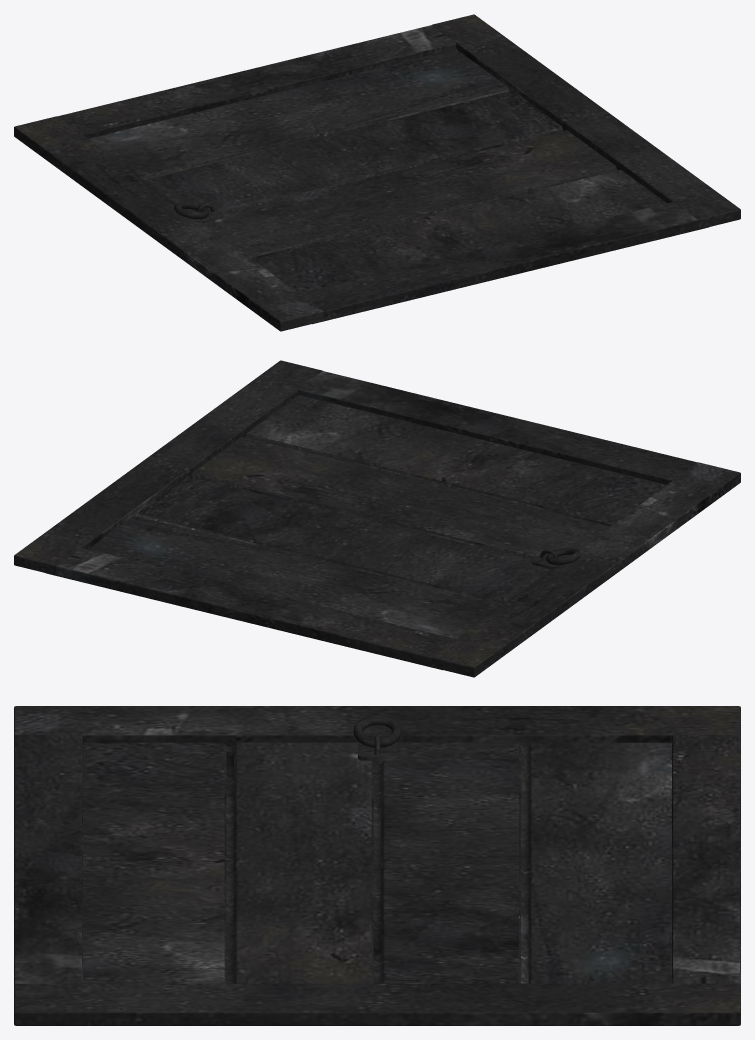
Rendered from SM_Horror_Attic_Trapdoor.fbx.
3 views of the same model, one above another, from view 1: azimuth 30°, elevation 25°; view 2: azimuth 150°, elevation 25°; view 3: azimuth 270°, elevation 25° (orthographic). The views are drawn at different scales.
Parts seen in each view (by area): view 1: SM_Horror_Attic_Trapdoor; view 2: SM_Horror_Attic_Trapdoor; view 3: SM_Horror_Attic_Trapdoor.
Boxes of the visible parts, box(x1,y1,x2,y2) form: SM_Horror_Attic_Trapdoor: box(14, 14, 740, 331); SM_Horror_Attic_Trapdoor: box(14, 360, 740, 677); SM_Horror_Attic_Trapdoor: box(14, 706, 740, 1025).
Size of the model in its own units: 123 by 123 by 4.9.
1 material, 1 textured.
